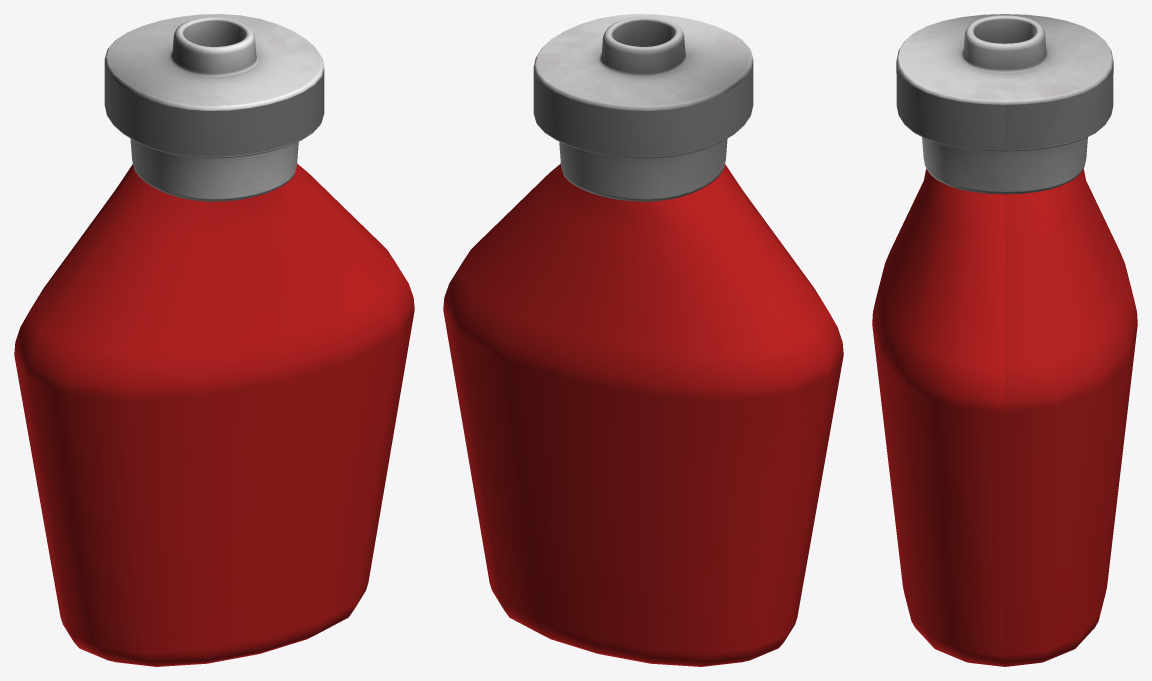
Rendered from ketchup.fbx.
The picture shows the model from 3 angles, left to right: view 1: azimuth 30°, elevation 25°; view 2: azimuth 150°, elevation 25°; view 3: azimuth 270°, elevation 25°; orthographic projection.
Visible parts, largest first — view 1: Ketchup_Ketchup_0; view 2: Ketchup_Ketchup_0; view 3: Ketchup_Ketchup_0.
Boxes of the visible parts, bbox=[...] form: Ketchup_Ketchup_0: bbox=[14, 14, 414, 666]; Ketchup_Ketchup_0: bbox=[443, 14, 843, 666]; Ketchup_Ketchup_0: bbox=[872, 14, 1137, 666].
Bounding box in the file's own units: 160 × 242 × 101.
1 material, 1 textured.
